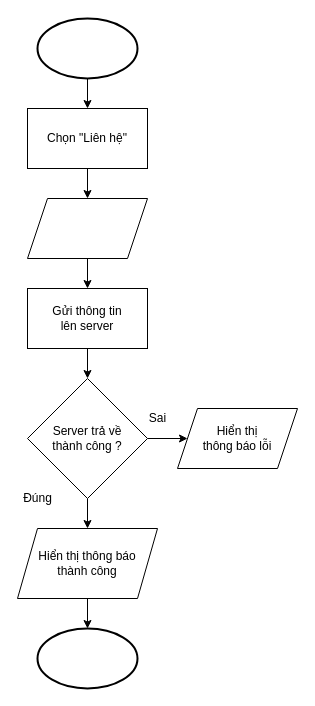
The diagram is 315 pixels wide and 706 high, and some of its shapes have lost their labels. The shapes that lost their labels are listed below. From the top down, each one's centre as x and y in pixels, then its label:
At point 87,48: "Bắt đầu".
At point 87,228: "Nhập thông tin liên hệ".
At point 87,658: "Kết thúc".
